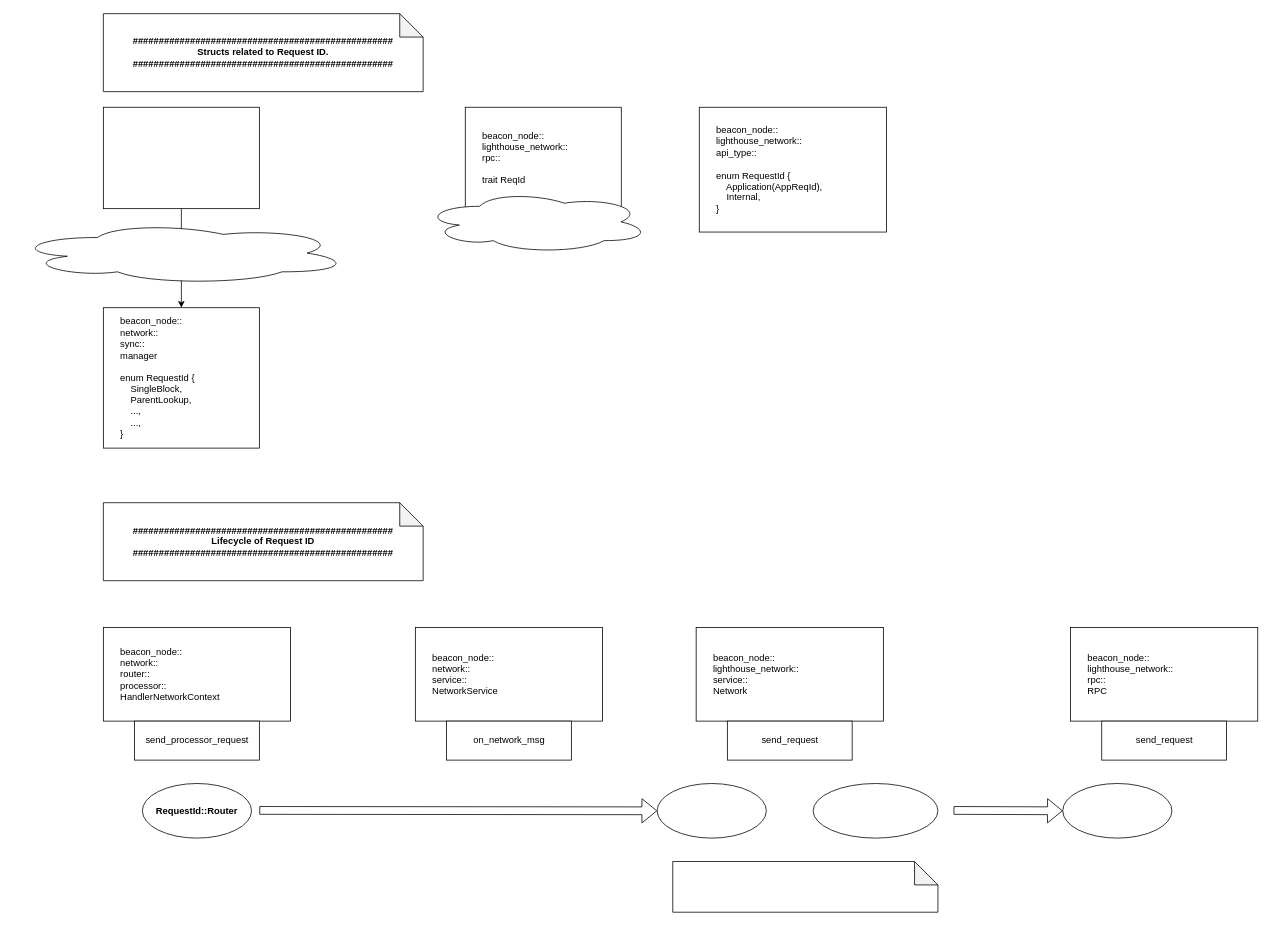
Image size: 1271x926. Some labels were removed from this diagram. Here are the shapes that lost their labels. From the top down, the box of each, then its label:
(103, 106, 259, 209): beacon_node:: network:: service:: enum RequestId { Sync(SyncId), Router, }
(422, 190, 649, 253): Composit trait for a request_id.
(13, 221, 349, 284): SyncId は sync::manager::RequestId のエイリアス
(656, 783, 766, 838): <AppReqId: ReqId>
(812, 783, 938, 838): RequestId::Application
(1062, 783, 1172, 838): <Id: ReqId>
(672, 861, 938, 912): Wrap the `ReqId` with `RequestId::Application`.
